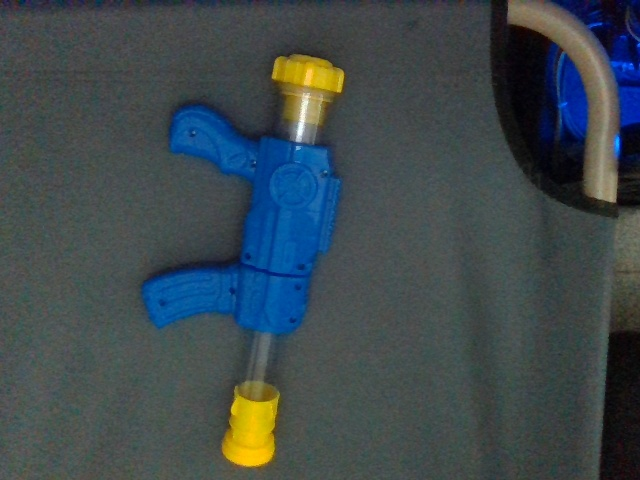screw hole: (229, 287, 237, 296), (297, 263, 306, 271), (321, 170, 329, 178), (294, 283, 302, 291), (289, 317, 297, 325), (244, 253, 251, 261), (250, 160, 257, 167), (159, 299, 166, 306), (190, 130, 196, 137)
toy: (140, 54, 345, 468)
